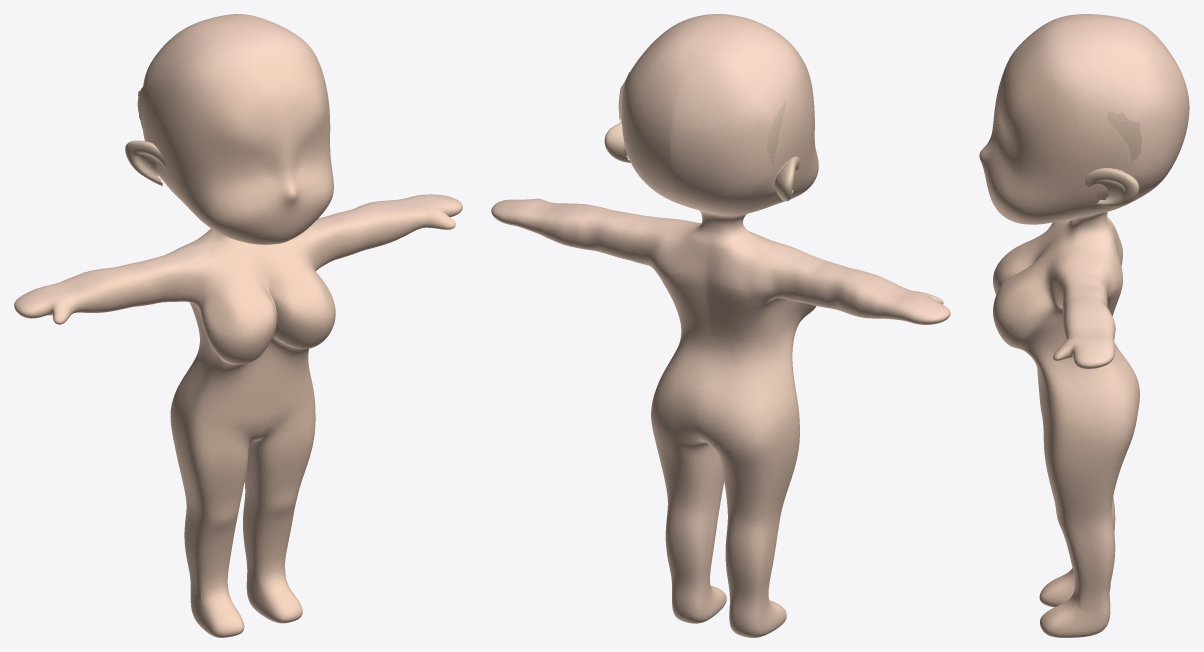
The model's file is char_yeoja_base_v19.glb.
The picture shows the model from 3 angles, left to right: view 1: azimuth 30°, elevation 25°; view 2: azimuth 150°, elevation 25°; view 3: azimuth 270°, elevation 25°; orthographic projection. The views are drawn at different scales.
Bounding box in the file's own units: 1.49 × 1.9 × 0.6085.
Materials: 2 (2 with a texture image).
